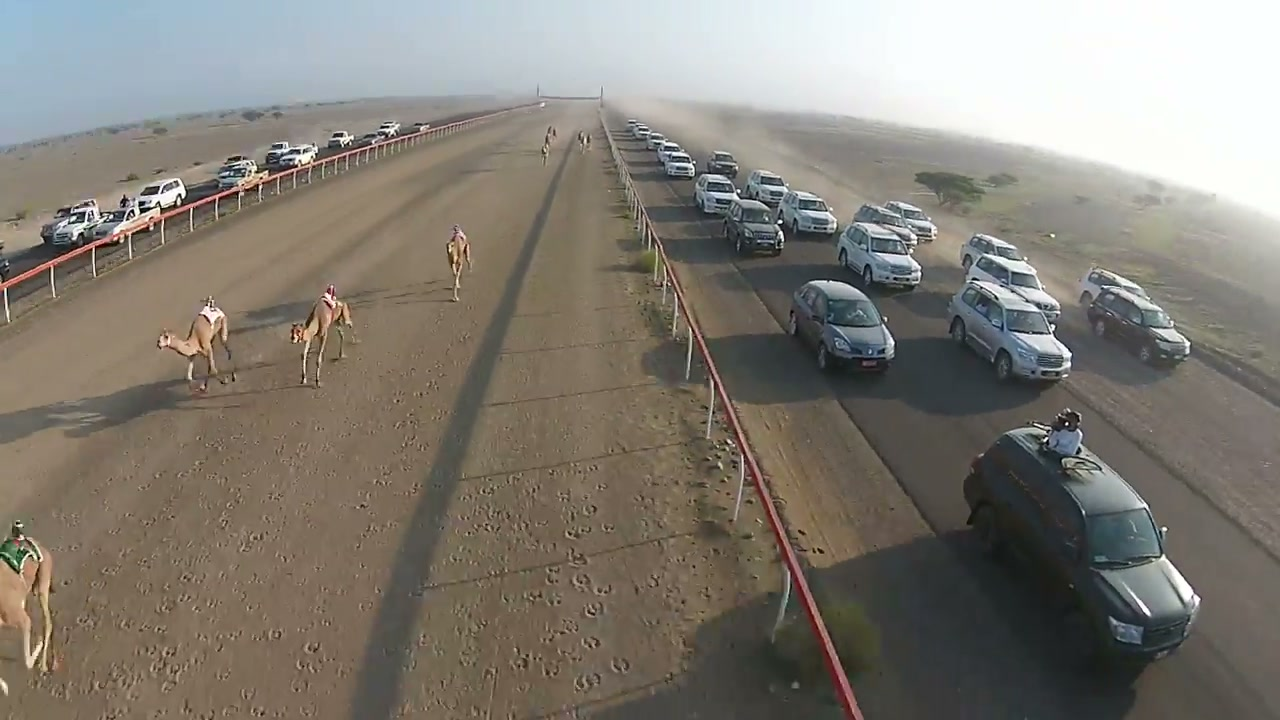animal_foot_print: (502, 471, 653, 700)
